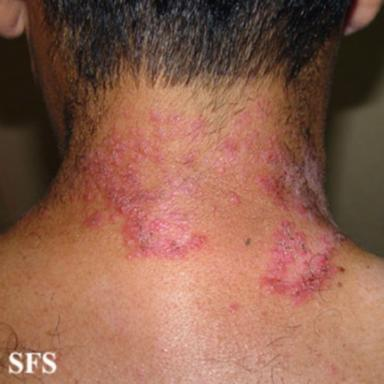Hailey-Hailey-Disease: (222, 98, 346, 303), (74, 109, 207, 258)
